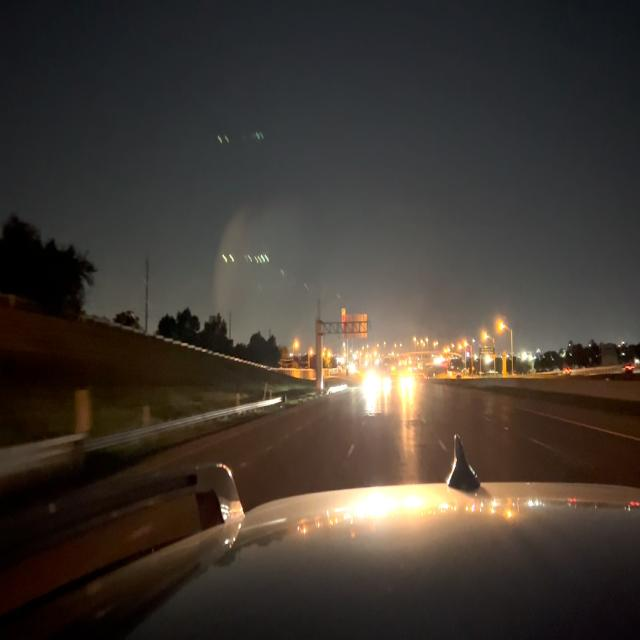back-of-sign: (342, 315, 366, 337)
